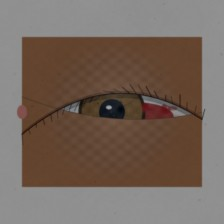hemorrhage_spot: (88, 77, 187, 157)
